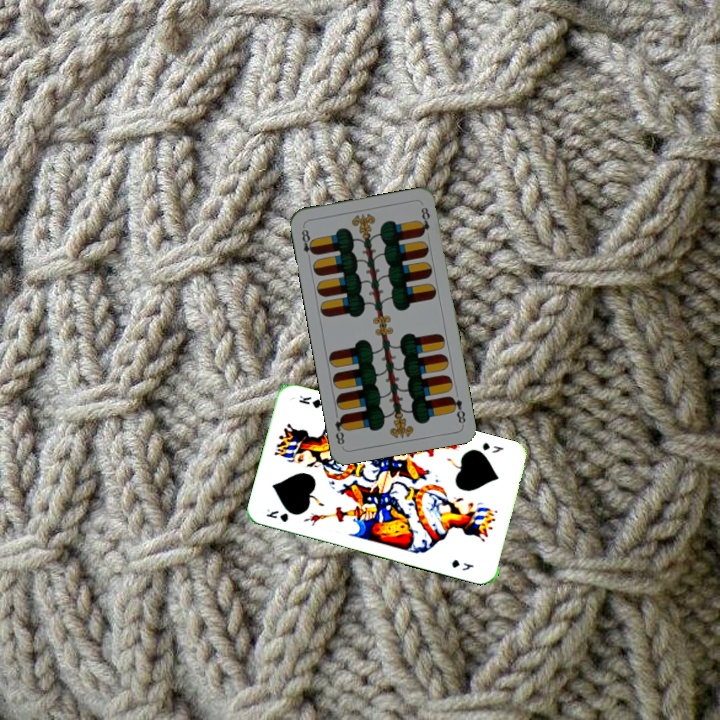E8: (297, 223, 318, 263), (446, 392, 468, 427)
GK: (262, 505, 291, 525), (478, 438, 506, 456)
